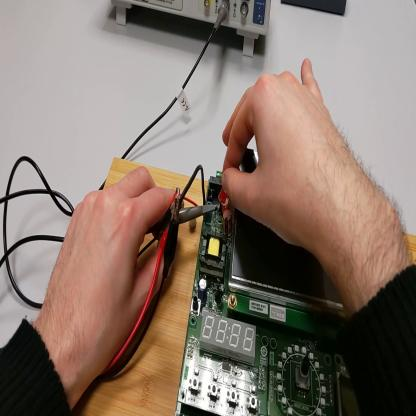hand: (43, 168, 176, 383), (220, 61, 351, 257)
low voltage board: (176, 150, 361, 414)
oscilloscope: (112, 1, 272, 59)
oscilloscope probe tip: (146, 203, 220, 236)
working area: (74, 162, 416, 416)
